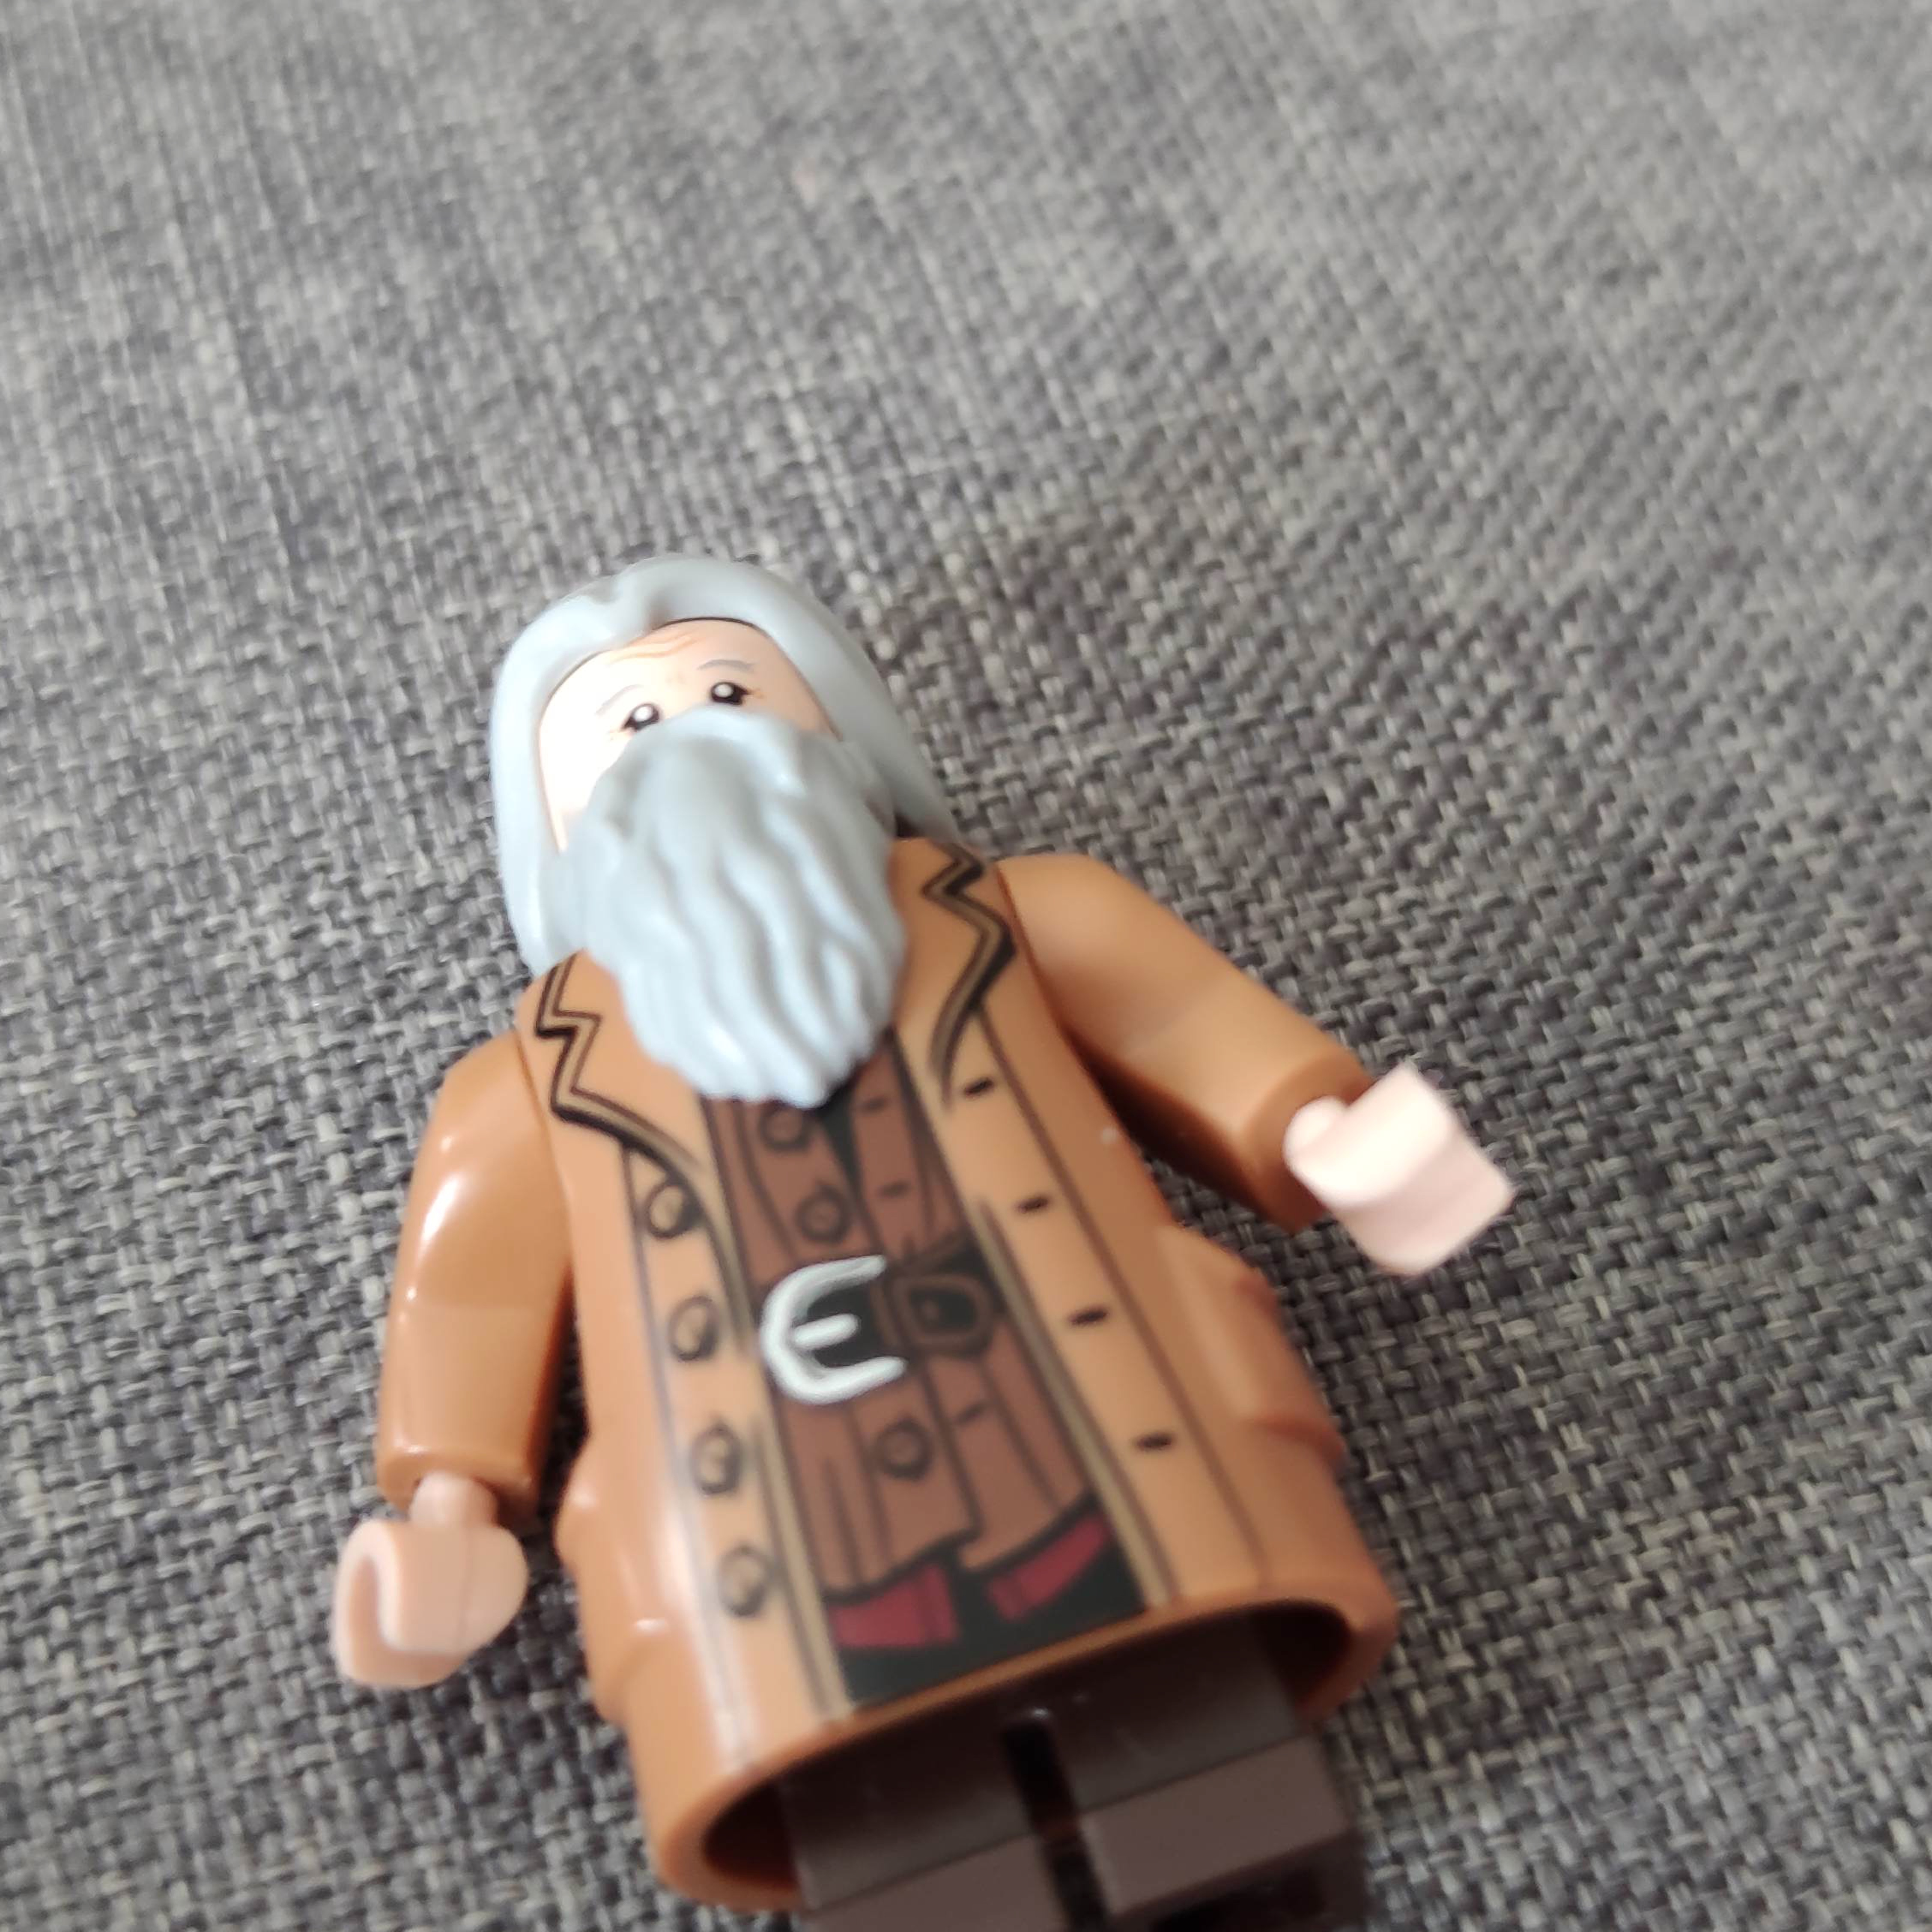lego: (326, 550, 1514, 1932)
